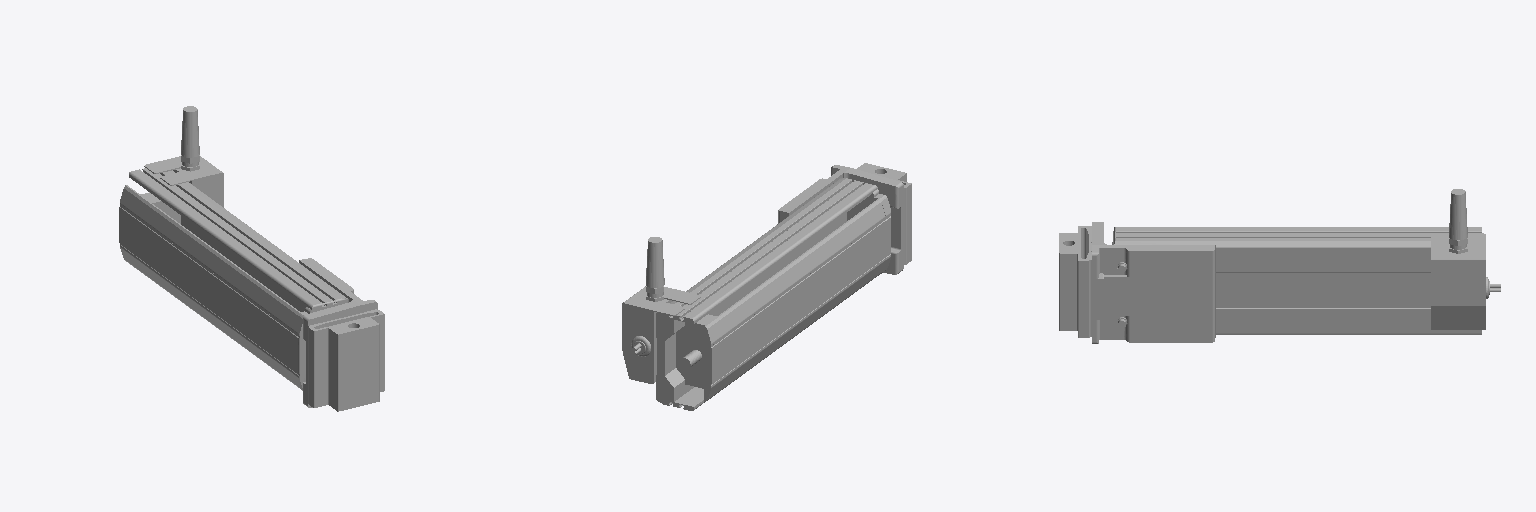
The model's file is Pick_and_Place_Floating_Z.obj.
3 renders of one model, left to right at view 1: azimuth 30°, elevation 25°; view 2: azimuth 150°, elevation 25°; view 3: azimuth 270°, elevation 25°, orthographic.
Visible parts, largest first — view 1: object; view 2: object; view 3: object.
Boxes of the visible parts, x1=… form: object: x1=119, y1=106, x2=384, y2=411; object: x1=622, y1=163, x2=911, y2=410; object: x1=1059, y1=189, x2=1500, y2=343.
Bounding box in the file's own units: 81.75 × 138 × 364.